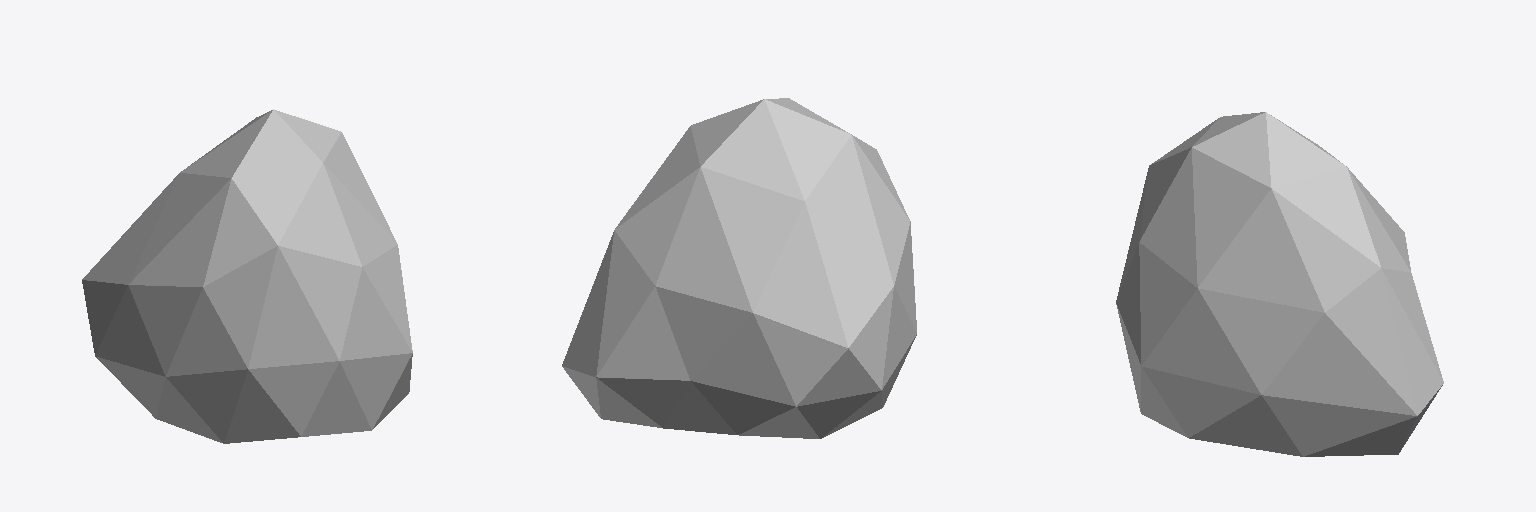
File: bush_l.obj
The picture shows the model from 3 angles: view 1: azimuth 30°, elevation 25°; view 2: azimuth 150°, elevation 25°; view 3: azimuth 270°, elevation 25°; orthographic projection.
Parts seen in each view (by area): view 1: Bush1_Icosphere.083; view 2: Bush1_Icosphere.083; view 3: Bush1_Icosphere.083.
Boxes of the visible parts, box(x1,y1,x2,y2) form: Bush1_Icosphere.083: box(82, 109, 412, 443); Bush1_Icosphere.083: box(562, 98, 916, 438); Bush1_Icosphere.083: box(1116, 112, 1443, 456).
Size of the model in its own units: 2.83 by 2.93 by 2.92.